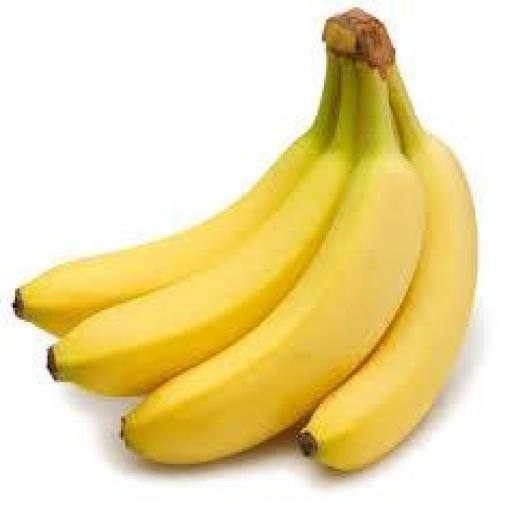banana: (124, 65, 423, 463), (13, 58, 339, 334), (50, 140, 349, 394), (299, 68, 477, 471)
